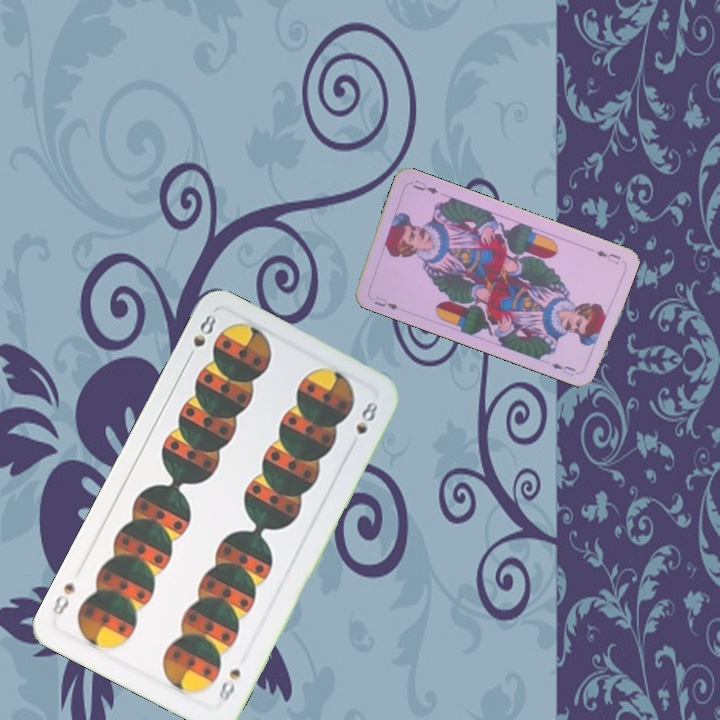EU: (592, 246, 623, 267), (370, 292, 401, 312)
S8: (182, 310, 219, 365), (214, 664, 244, 708)
